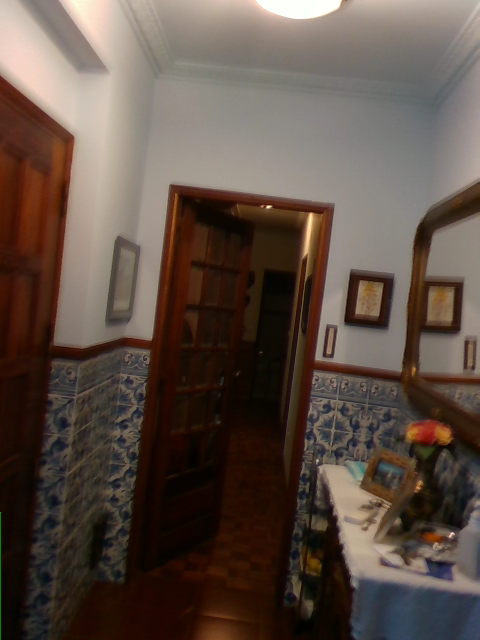semi: (121, 184, 336, 599)
